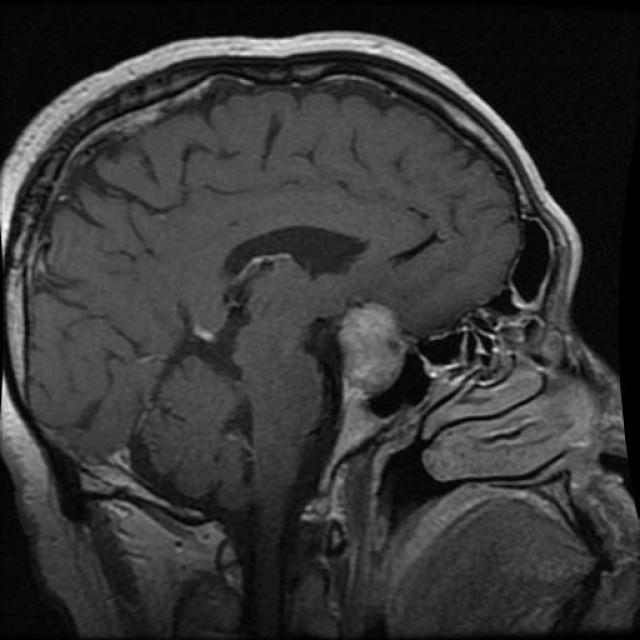brain_tumor: (338, 304, 408, 396)
